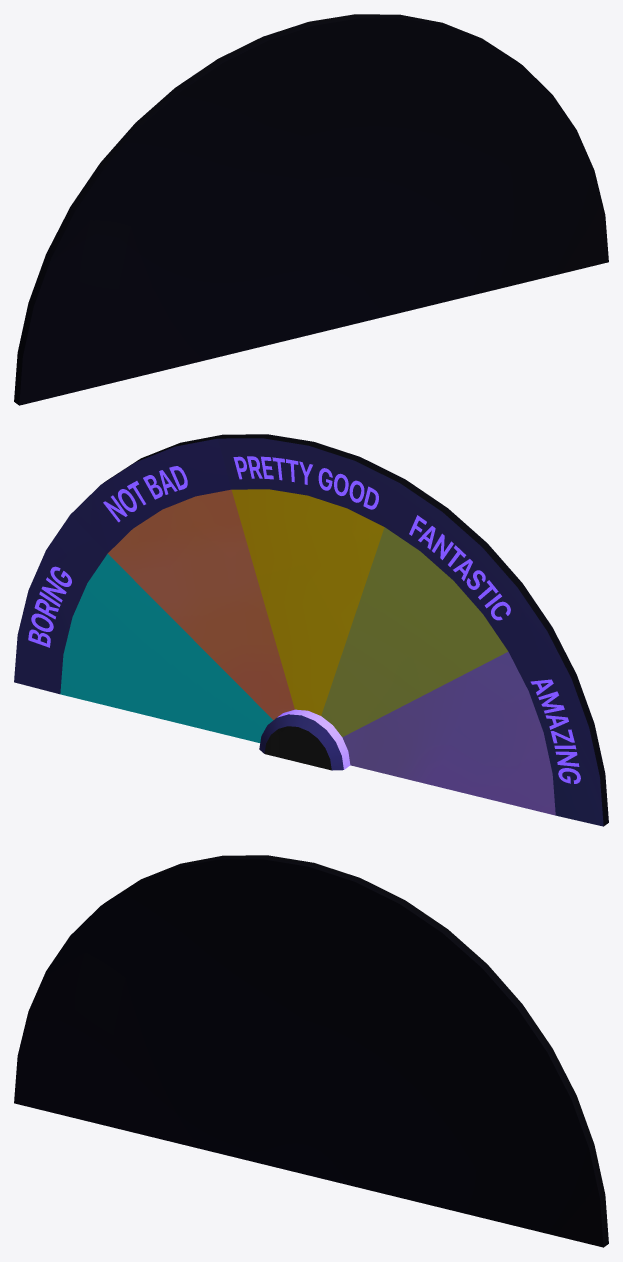
Rendered from clapMeterBoard.glb.
3 renders of one model, top to bottom at view 1: azimuth 30°, elevation 25°; view 2: azimuth 150°, elevation 25°; view 3: azimuth 330°, elevation 25°, orthographic.
Visible parts, largest first — view 1: text.001; view 2: text.001; view 3: text.001.
Boxes of the visible parts, x1,y1,x2,y2 form: text.001: (14,14,608,405); text.001: (14,434,608,826); text.001: (14,855,608,1247).
Size of the model in its own units: 5.61 by 2.8 by 0.2669.
2 materials, 1 textured.
